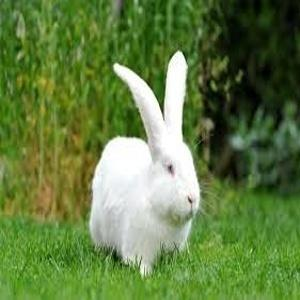rabbit: (89, 51, 199, 275)
